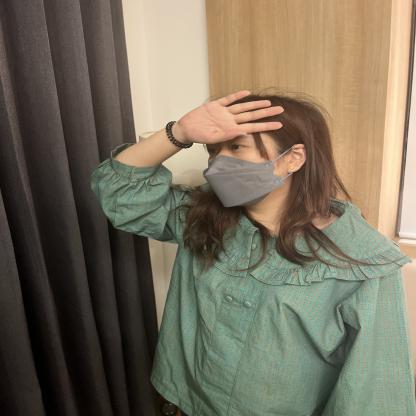Sick: (75, 38, 376, 248)
